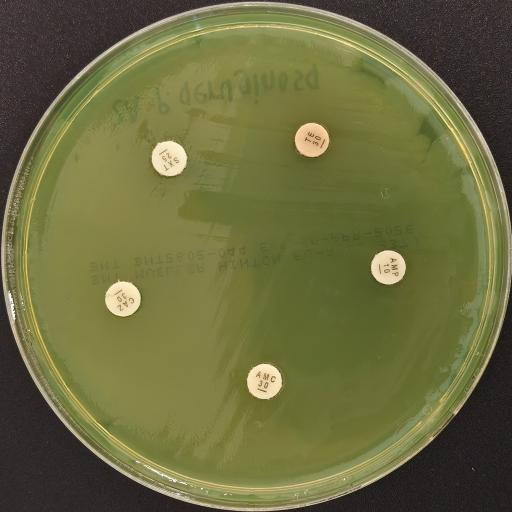disc: (150, 140, 188, 176), (246, 362, 282, 400), (105, 281, 141, 317), (294, 123, 330, 157), (370, 251, 406, 285)
